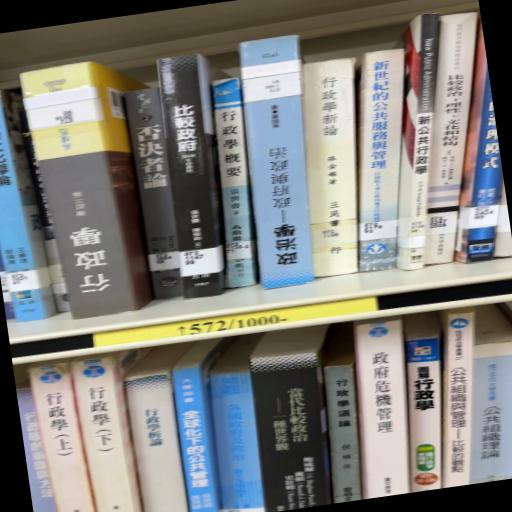book: (157, 54, 225, 299), (420, 12, 477, 263), (0, 90, 57, 322), (303, 58, 358, 277), (357, 49, 404, 271), (212, 78, 257, 288)
reverse: (21, 62, 153, 318), (239, 35, 314, 289)
